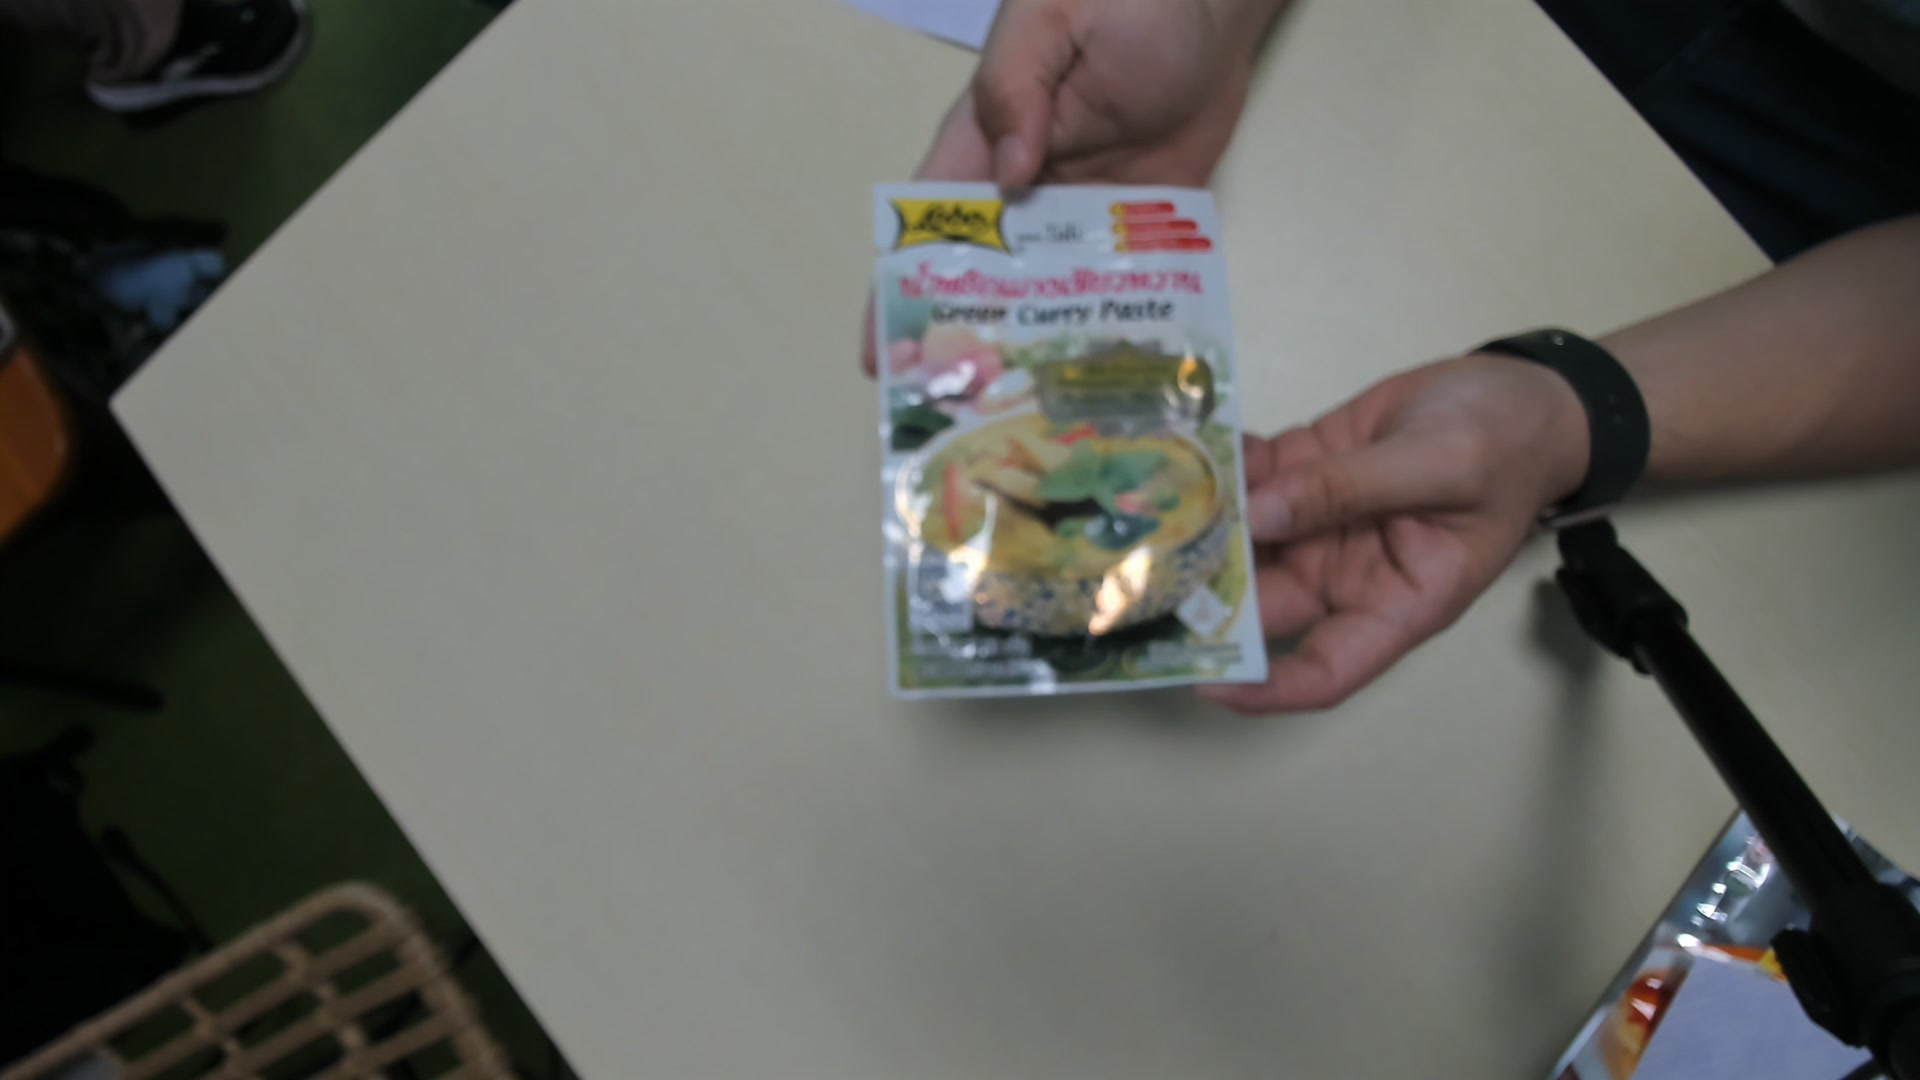CurryPastePowderSauce_0-99g_Halal_NonHealthy: (872, 177, 1266, 709)
